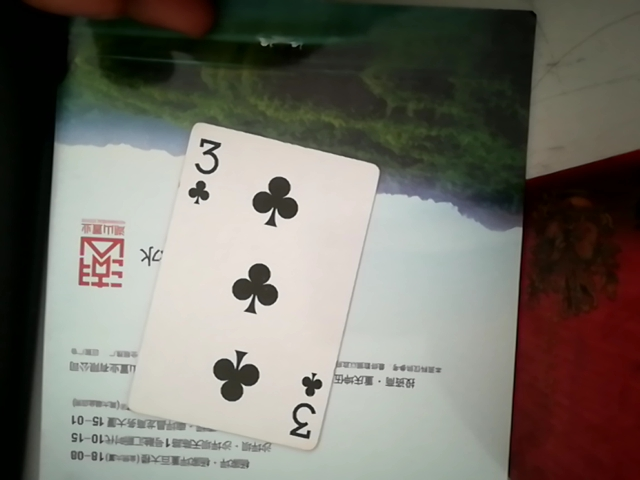mh 3: (141, 115, 372, 455)
